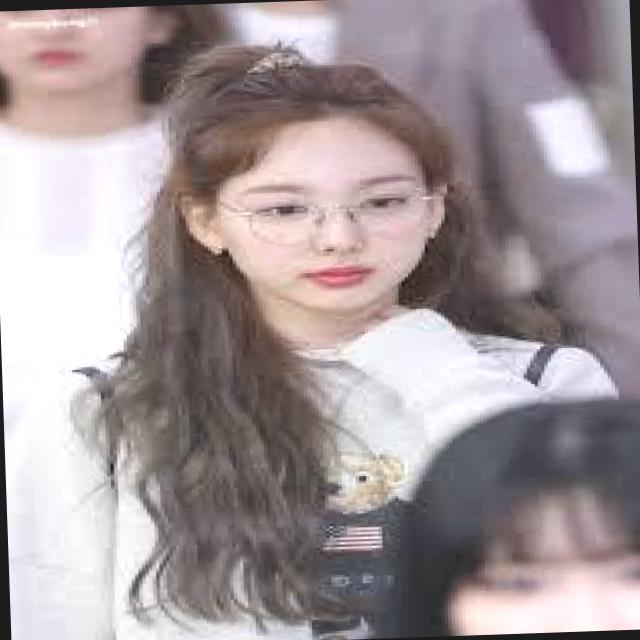sweater: (24, 297, 626, 640)
